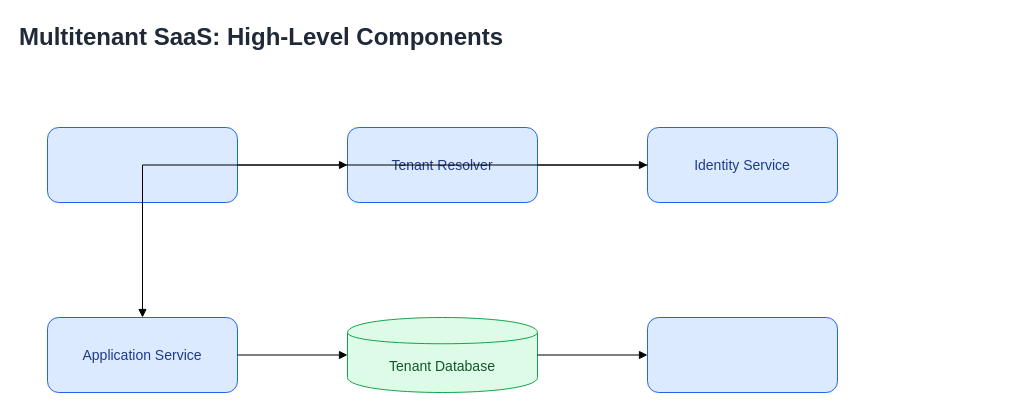
Some shapes in this 1034 by 410 pixel diagram are drawn without their labels. The shapes that lost their labels are listed below. From the top down, each one's centre as x and y in pixels, then its label:
point 142,164: API Gateway
point 742,354: Audit Service
